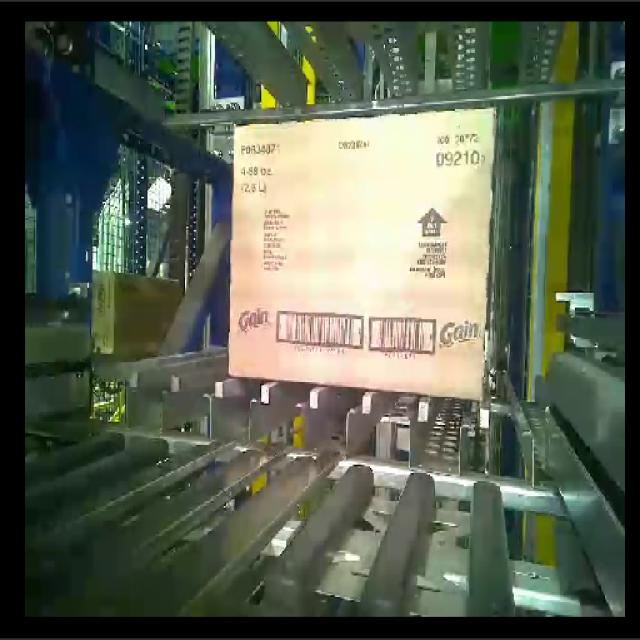box: (227, 99, 497, 401)
